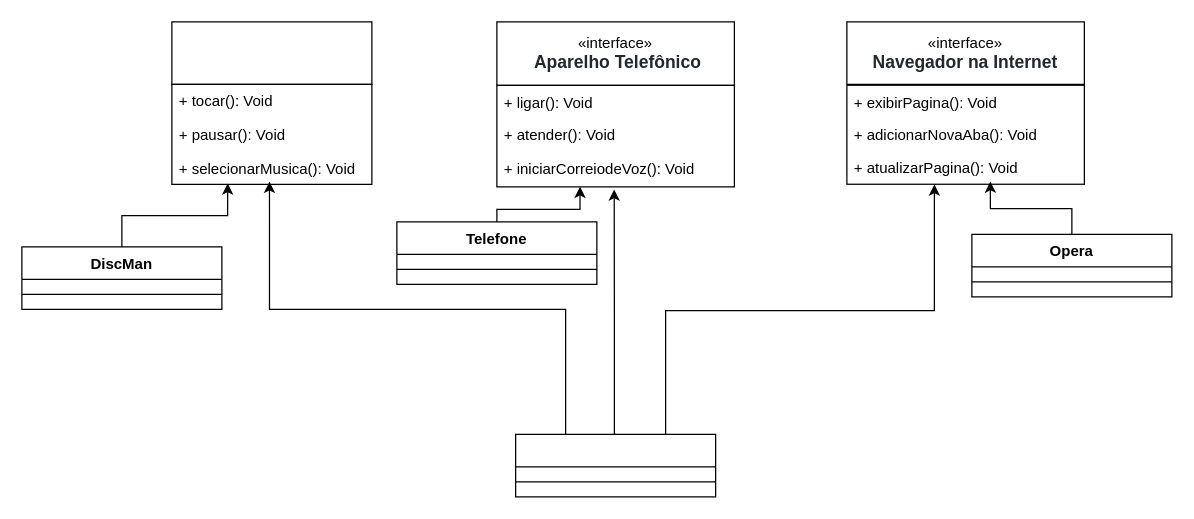
This 1194x519 diagram has some shape labels left out. The shapes that lost their labels are listed below. From the top down, each one's box as (x1, y1, x2, y2) in pixels, then its label:
(171, 21, 372, 84): «interface» Reprodutor Musical
(514, 433, 716, 497): Iphone
